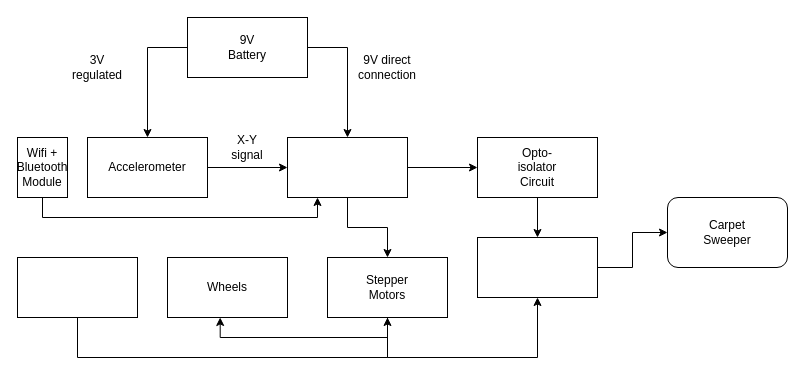
Some shapes in this 805 by 383 pixel diagram are drawn without their labels. The shapes that lost their labels are listed below. From the top down, each one's centre as x and y in pixels, then its label:
At point (347, 167): "MCU".
At point (77, 287): "9V, 3200 mah battery".
At point (537, 267): "DC Motor".
